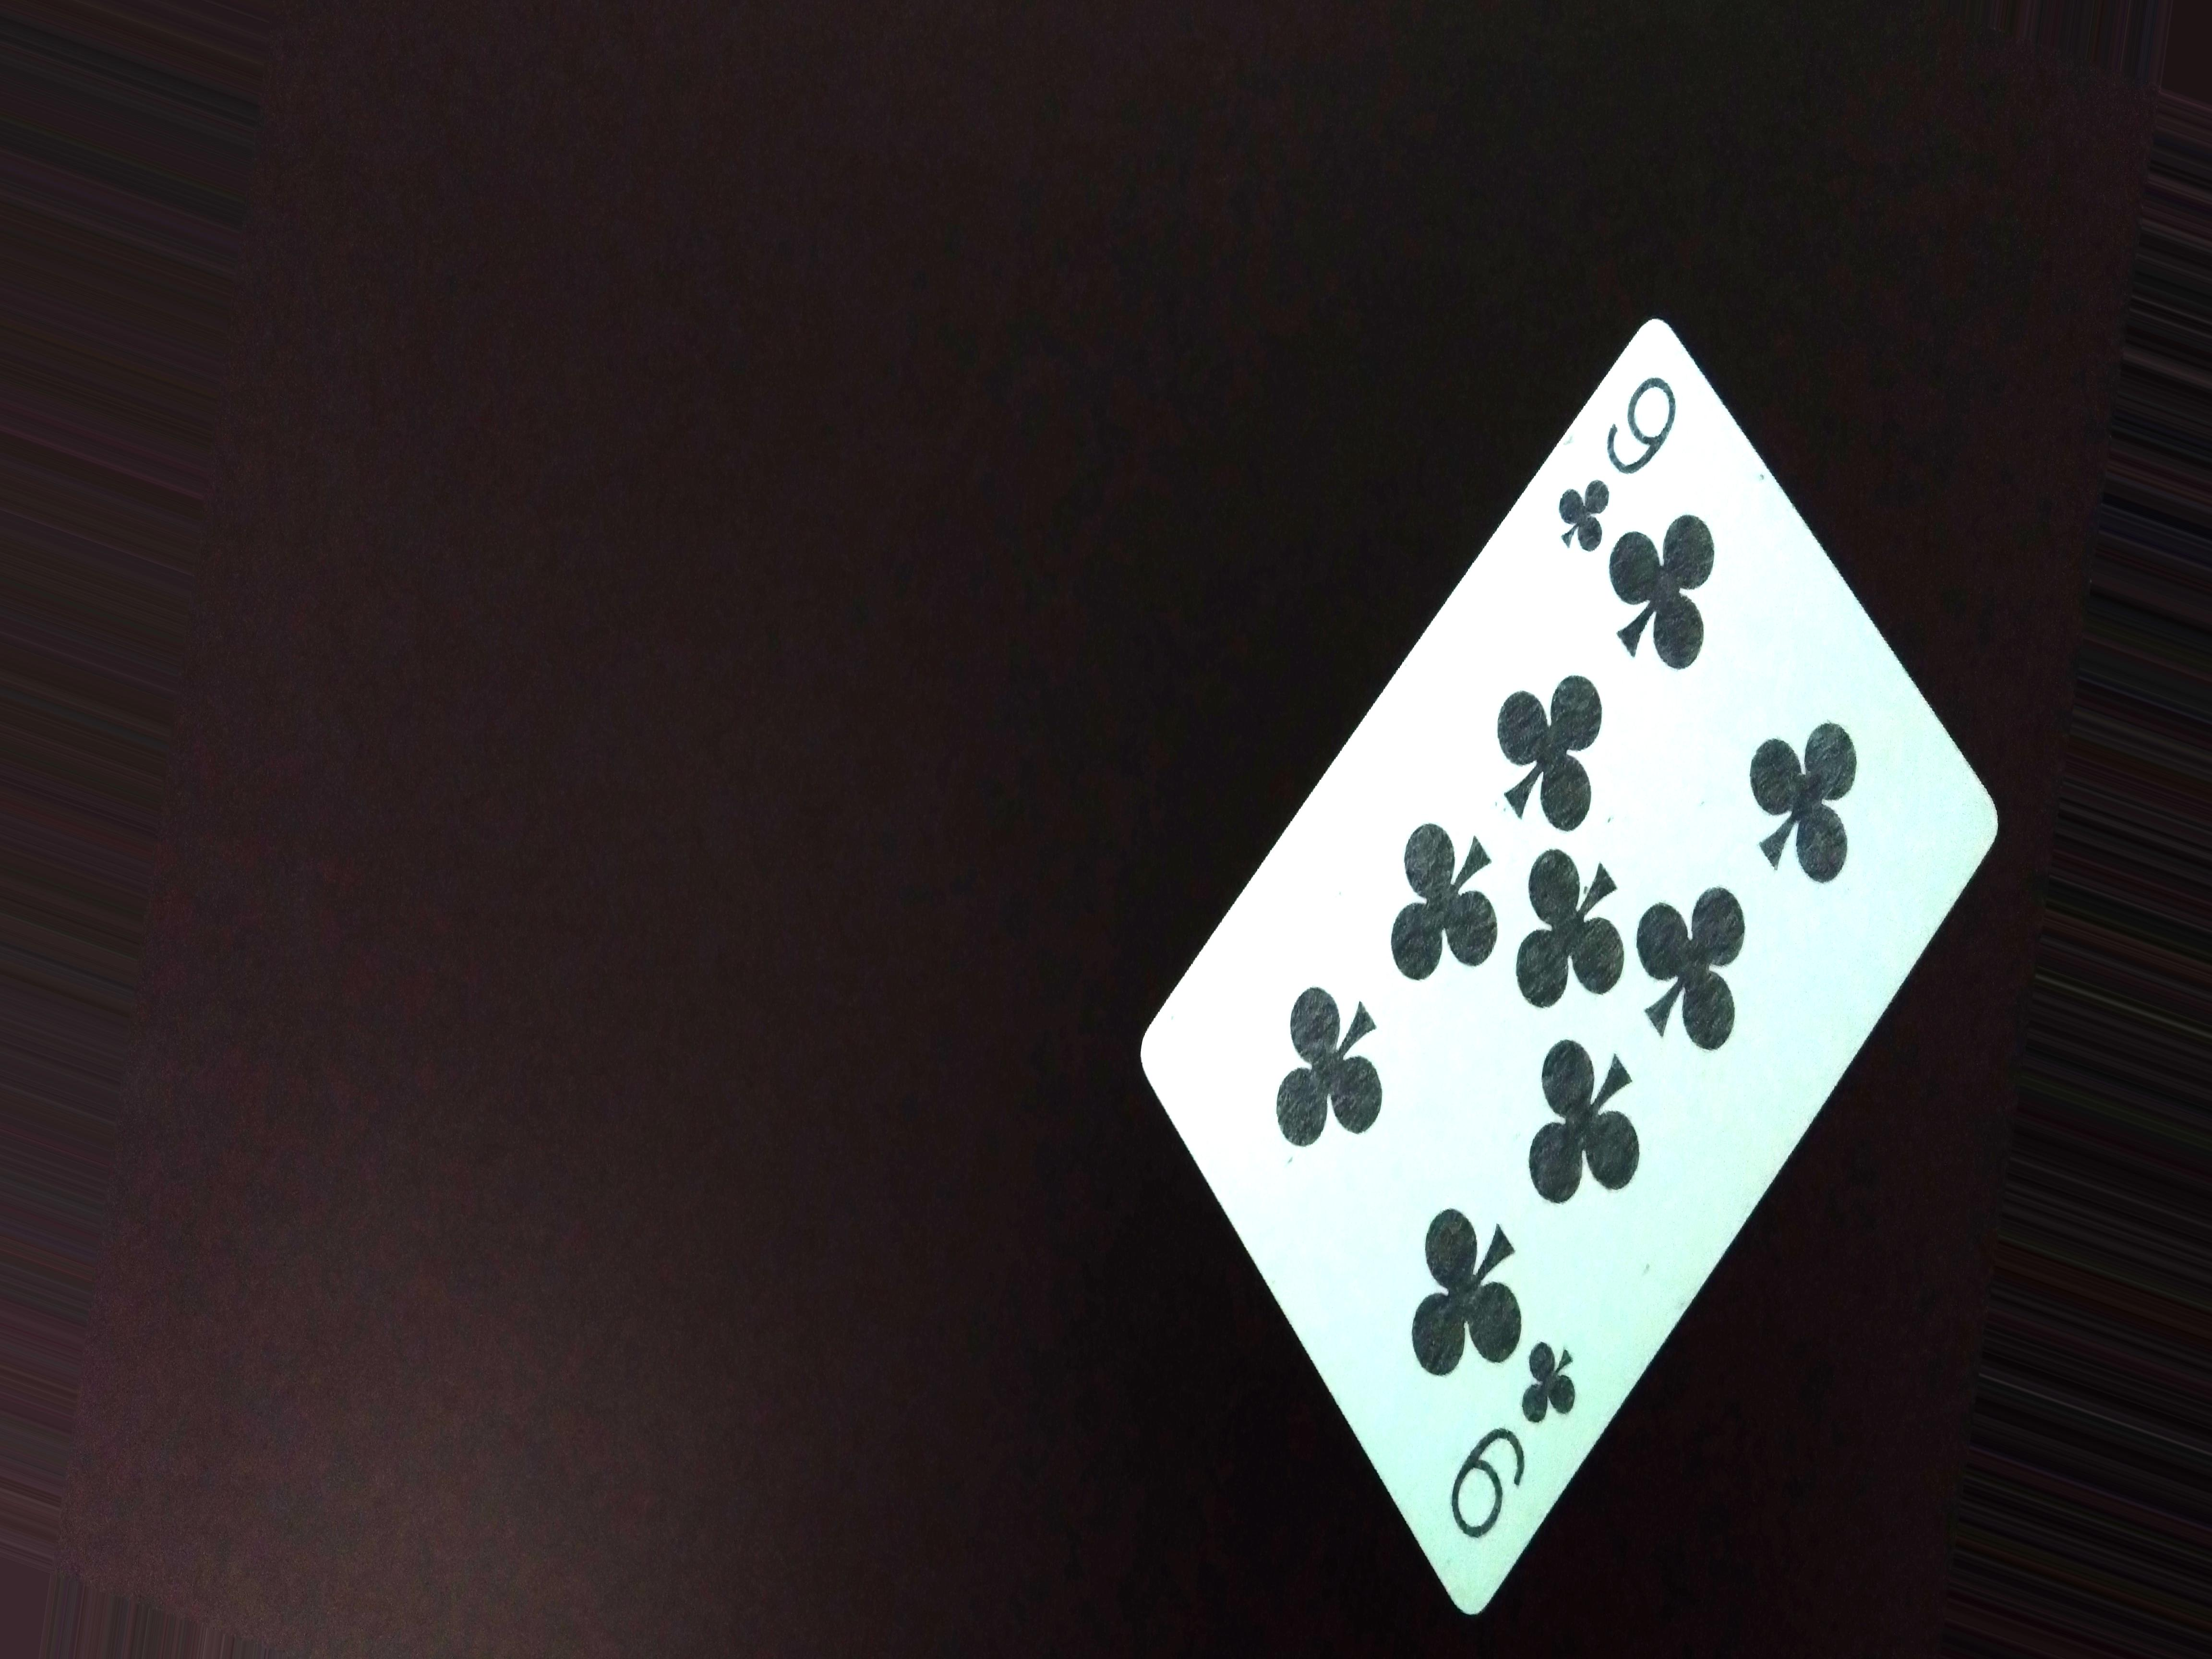9C: (1561, 355, 1686, 582)
